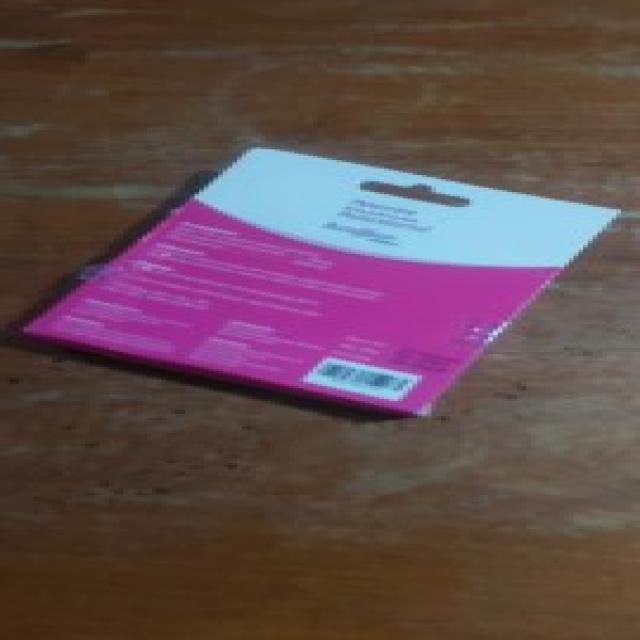Cacat: (0, 149, 626, 420)
